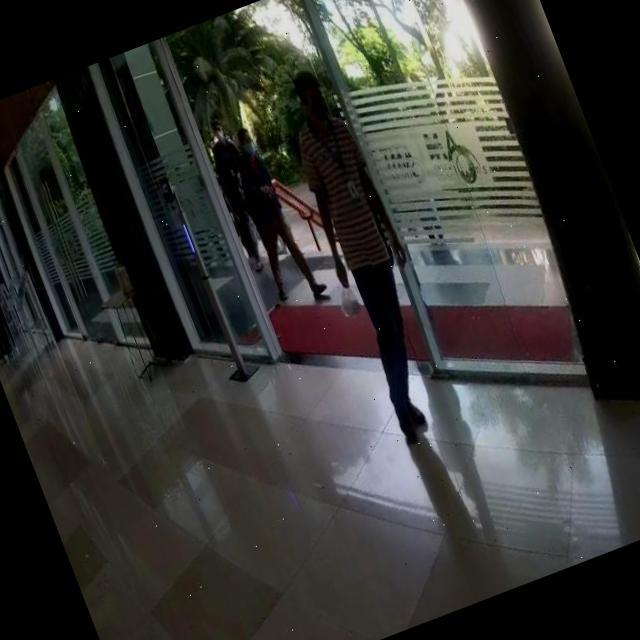person: (266, 66, 466, 446), (217, 118, 324, 308), (198, 115, 283, 274)
